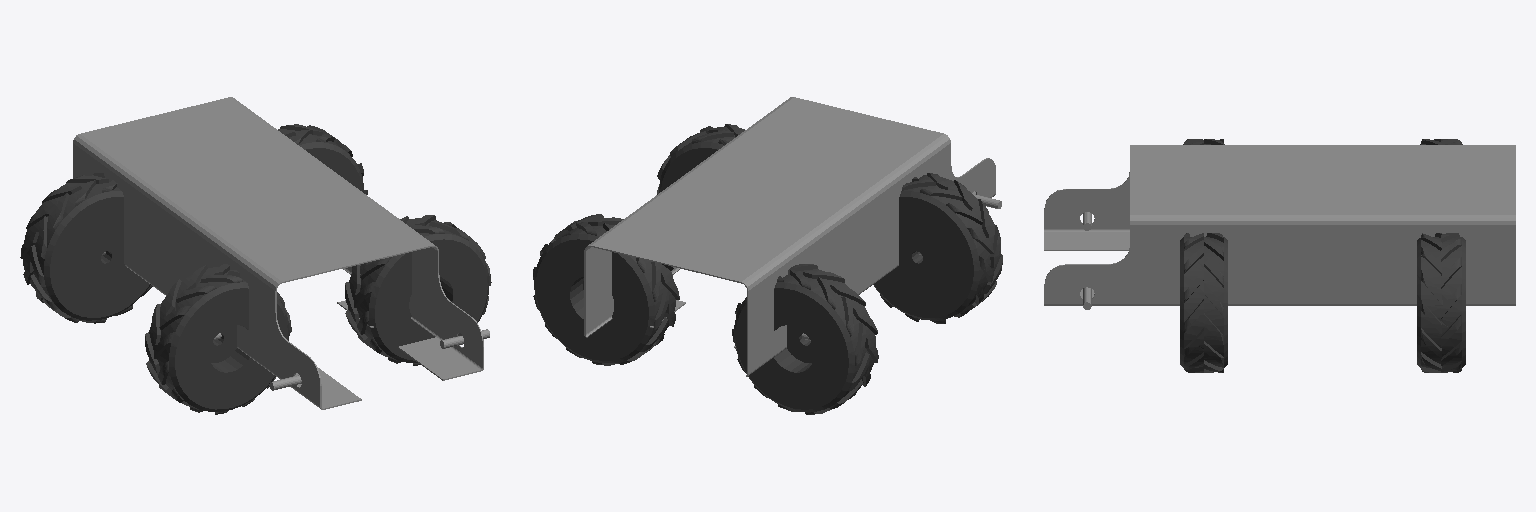
URDF robot description (my_robot):
<?xml version="1.0" encoding="utf-8"?>
<!-- This URDF was automatically created by SolidWorks to URDF Exporter! Originally created by [author] ([email redacted]) 
     Commit Version: 1.6.0-1-g15f4949  Build Version: 1.6.7594.29634
     For more information, please see http://wiki.ros.org/sw_urdf_exporter -->
<robot
  name="my_robot">
  <link
    name="base_link">
    <inertial>
      <origin
        xyz="0.0587853718852618 -0.0930559935631688 1.03726776096917E-15"
        rpy="0 0 0" />
      <mass
        value="3.12236517080468" />
      <inertia
        ixx="0.121295108305808"
        ixy="0.0195662603783679"
        ixz="1.24119464706141E-15"
        iyy="0.374823982635833"
        iyz="-4.44414470501808E-16"
        izz="0.303669234388361" />
    </inertial>
    <visual>
      <origin
        xyz="0 0 0"
        rpy="0 0 0" />
      <geometry>
        <mesh
          filename="package://my_robot/meshes/base_link.STL" />
      </geometry>
      <material
        name="">
        <color
          rgba="0.6 0.6 0.6 1" />
      </material>
    </visual>
    <collision>
      <origin
        xyz="0 0 0"
        rpy="0 0 0" />
      <geometry>
        <mesh
          filename="package://my_robot/meshes/base_link.STL" />
      </geometry>
    </collision>
  </link>
  <link
    name="left_front_wheel">
    <inertial>
      <origin
        xyz="5.13930929757489E-09 -3.04509164550382E-08 -0.0552248163410726"
        rpy="0 0 0" />
      <mass
        value="8.23195517435844" />
      <inertia
        ixx="0.0630064366723534"
        ixy="-1.07299508427666E-08"
        ixz="-2.54046412544519E-09"
        iyy="0.0630064355833204"
        iyz="-1.2711075666515E-08"
        izz="0.108767039452199" />
    </inertial>
    <visual>
      <origin
        xyz="0 0 0"
        rpy="0 0 0" />
      <geometry>
        <mesh
          filename="package://my_robot/meshes/left_front_wheel.STL" />
      </geometry>
      <material
        name="">
        <color
          rgba="0.298039215686275 0.298039215686275 0.298039215686275 1" />
      </material>
    </visual>
    <collision>
      <origin
        xyz="0 0 0"
        rpy="0 0 0" />
      <geometry>
        <mesh
          filename="package://my_robot/meshes/left_front_wheel.STL" />
      </geometry>
    </collision>
  </link>
  <joint
    name="left_front_wheel_joint"
    type="continuous">
    <origin
      xyz="0.256 0.22035 -0.1953"
      rpy="-1.5708 1.2311 -3.1416" />
    <parent
      link="base_link" />
    <child
      link="left_front_wheel" />
    <axis
      xyz="0 0 1" />
  </joint>
  <link
    name="left_rear_wheel">
    <inertial>
      <origin
        xyz="5.13930895063019E-09 -3.04509163440159E-08 -0.0552248163410726"
        rpy="0 0 0" />
      <mass
        value="8.23195517435845" />
      <inertia
        ixx="0.0630064366723535"
        ixy="-1.07299508392972E-08"
        ixz="-2.54046391580306E-09"
        iyy="0.0630064355833206"
        iyz="-1.27110757684258E-08"
        izz="0.108767039452199" />
    </inertial>
    <visual>
      <origin
        xyz="0 0 0"
        rpy="0 0 0" />
      <geometry>
        <mesh
          filename="package://my_robot/meshes/left_rear_wheel.STL" />
      </geometry>
      <material
        name="">
        <color
          rgba="0.298039215686275 0.298039215686275 0.298039215686275 1" />
      </material>
    </visual>
    <collision>
      <origin
        xyz="0 0 0"
        rpy="0 0 0" />
      <geometry>
        <mesh
          filename="package://my_robot/meshes/left_rear_wheel.STL" />
      </geometry>
    </collision>
  </link>
  <joint
    name="left_rear_wheel_joint"
    type="continuous">
    <origin
      xyz="-0.256 0.22035 -0.1953"
      rpy="-1.5708 -0.33051 3.1416" />
    <parent
      link="base_link" />
    <child
      link="left_rear_wheel" />
    <axis
      xyz="0 0 1" />
  </joint>
  <link
    name="right_rear_wheel">
    <inertial>
      <origin
        xyz="8.15809958476521E-09 -2.57078605625516E-09 -0.0552248254929292"
        rpy="0 0 0" />
      <mass
        value="8.23195748178054" />
      <inertia
        ixx="0.063006463055454"
        ixy="-1.12729348269308E-08"
        ixz="-1.17763979744703E-09"
        iyy="0.0630064519403229"
        iyz="-4.45415611022009E-09"
        izz="0.108767077064945" />
    </inertial>
    <visual>
      <origin
        xyz="0 0 0"
        rpy="0 0 0" />
      <geometry>
        <mesh
          filename="package://my_robot/meshes/right_rear_wheel.STL" />
      </geometry>
      <material
        name="">
        <color
          rgba="0.298039215686275 0.298039215686275 0.298039215686275 1" />
      </material>
    </visual>
    <collision>
      <origin
        xyz="0 0 0"
        rpy="0 0 0" />
      <geometry>
        <mesh
          filename="package://my_robot/meshes/right_rear_wheel.STL" />
      </geometry>
    </collision>
  </link>
  <joint
    name="right_rear_wheel_joint"
    type="continuous">
    <origin
      xyz="-0.256 -0.22035 -0.1953"
      rpy="1.5708 1.2718 -3.1416" />
    <parent
      link="base_link" />
    <child
      link="right_rear_wheel" />
    <axis
      xyz="0 0 1" />
  </joint>
  <link
    name="right_front_wheel">
    <inertial>
      <origin
        xyz="-5.98366356463487E-11 -2.31314772891622E-08 0.0590751828145294"
        rpy="0 0 0" />
      <mass
        value="8.2319551743634" />
      <inertia
        ixx="0.0630064451523927"
        ixy="-1.43715566647794E-08"
        ixz="-3.04950039790996E-09"
        iyy="0.0630064261207298"
        iyz="-1.0117224101023E-08"
        izz="0.10876703761934" />
    </inertial>
    <visual>
      <origin
        xyz="0 0 0"
        rpy="0 0 0" />
      <geometry>
        <mesh
          filename="package://my_robot/meshes/right_front_wheel.STL" />
      </geometry>
      <material
        name="">
        <color
          rgba="0.298039215686275 0.298039215686275 0.298039215686275 1" />
      </material>
    </visual>
    <collision>
      <origin
        xyz="0 0 0"
        rpy="0 0 0" />
      <geometry>
        <mesh
          filename="package://my_robot/meshes/right_front_wheel.STL" />
      </geometry>
    </collision>
  </link>
  <joint
    name="right_front_wheel_joint"
    type="continuous">
    <origin
      xyz="0.256 -0.33465 -0.1953"
      rpy="1.5708 -1.4489 3.1416" />
    <parent
      link="base_link" />
    <child
      link="right_front_wheel" />
    <axis
      xyz="0 0 1" />
  </joint>
</robot>

--- What the picture shows (computed from the rendered views, not written in the file) ---
3 views of the same robot in one strip: view 1: azimuth 30°, elevation 25°; view 2: azimuth 150°, elevation 25°; view 3: azimuth 270°, elevation 25° (orthographic).
Robot: my_robot — 5 links, 4 joints (4 continuous); root link base_link; default pose: all joints at 0.
Links seen in each view (by area): view 1: base_link, right_rear_wheel, left_rear_wheel, right_front_wheel, left_front_wheel; view 2: base_link, left_rear_wheel, right_rear_wheel, left_front_wheel, right_front_wheel; view 3: base_link, left_front_wheel, right_front_wheel.
Boxes of the visible links, left/top/right/bottom form: base_link: left=73, top=97, right=489, bottom=409; right_rear_wheel: left=145, top=264, right=291, bottom=414; left_rear_wheel: left=20, top=173, right=152, bottom=323; right_front_wheel: left=345, top=215, right=491, bottom=365; left_front_wheel: left=278, top=124, right=367, bottom=194; base_link: left=584, top=97, right=1001, bottom=376; left_rear_wheel: left=732, top=264, right=878, bottom=414; right_rear_wheel: left=873, top=173, right=1002, bottom=323; left_front_wheel: left=533, top=214, right=679, bottom=365; right_front_wheel: left=657, top=124, right=744, bottom=194; base_link: left=1044, top=145, right=1515, bottom=309; left_front_wheel: left=1417, top=233, right=1465, bottom=372; right_front_wheel: left=1180, top=233, right=1227, bottom=372.
Bounding box of the posed robot: 0.842 × 1.1 × 0.3603 m (x, y, z).
Meshes: 5 distinct files referenced, 5 mesh visuals loaded (5 binary STL).